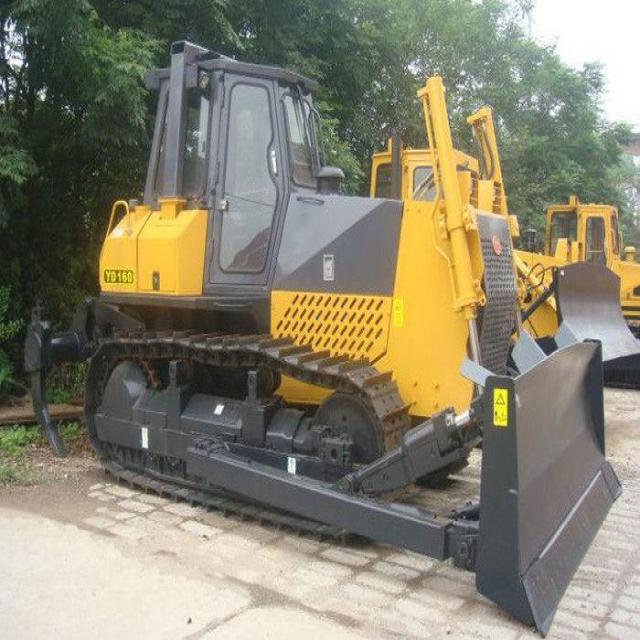Bulldozer: (28, 27, 622, 621)
